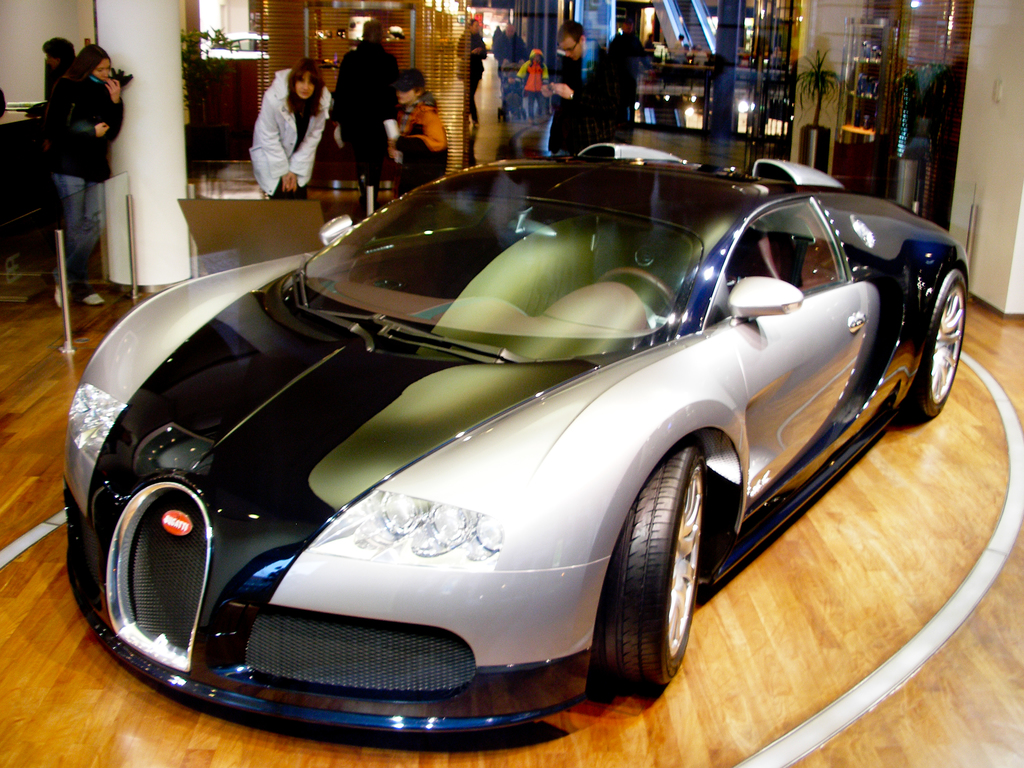Person: (22, 35, 131, 309), (333, 20, 443, 194), (251, 57, 331, 201), (537, 17, 612, 161)
